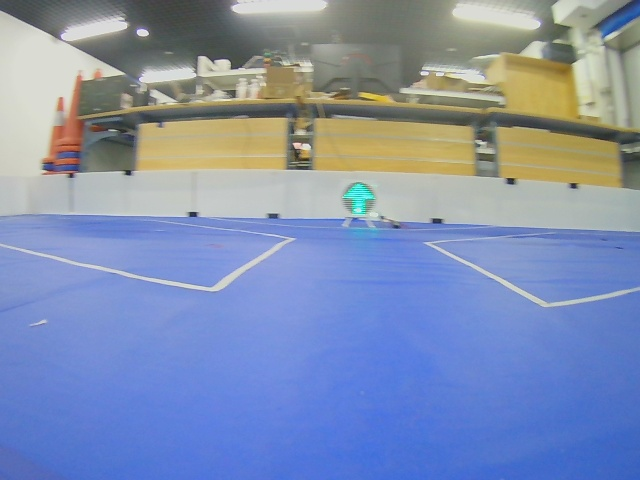straight_green: (342, 182, 376, 217)
